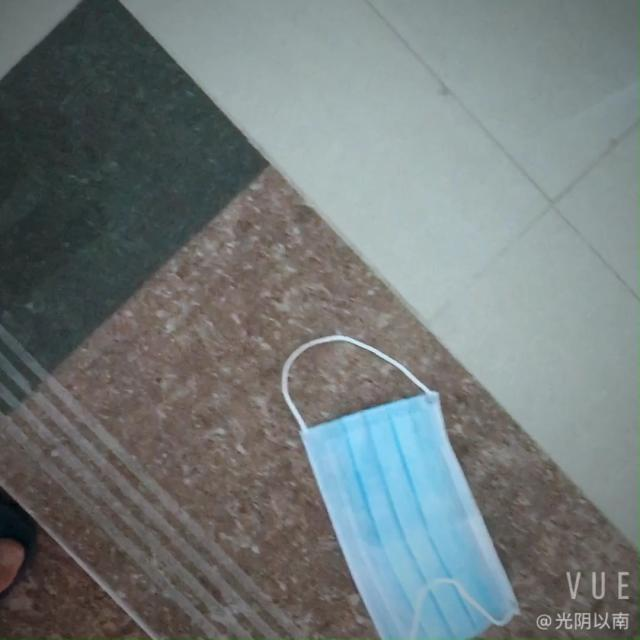face mask: (291, 399, 521, 640)
